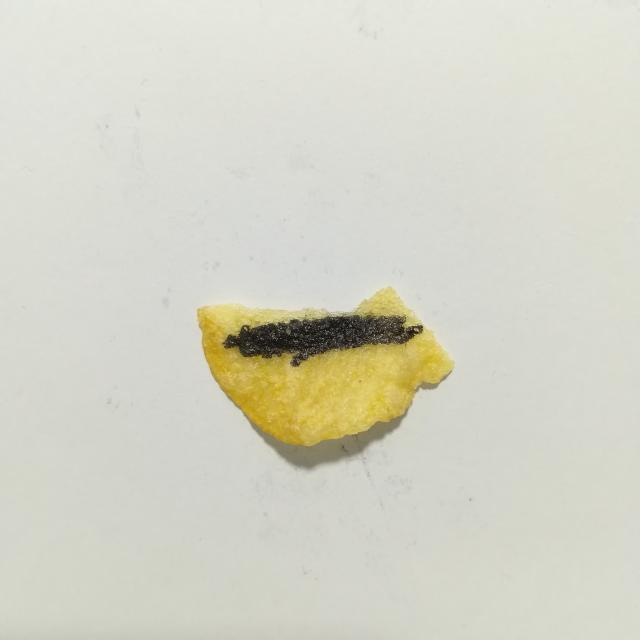chip: (197, 288, 454, 446)
damaged: (223, 313, 423, 366)
